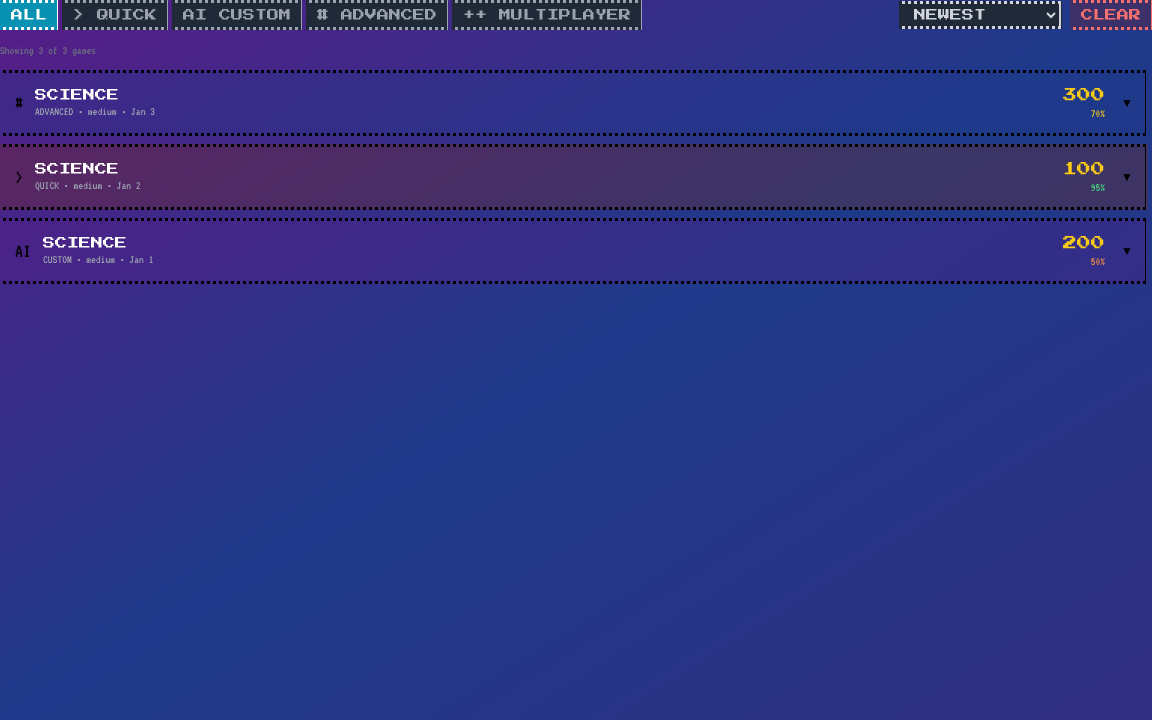
Scenario: GameHistoryList › with entries › cancels clear dialog
The image size is (1152, 720).
What coordinates should you click on to do the following:
click the button with aria-label "clear all"
I would click on:
 (1111, 15)
Its box is x1=1070 y1=0 x2=1151 y2=30.
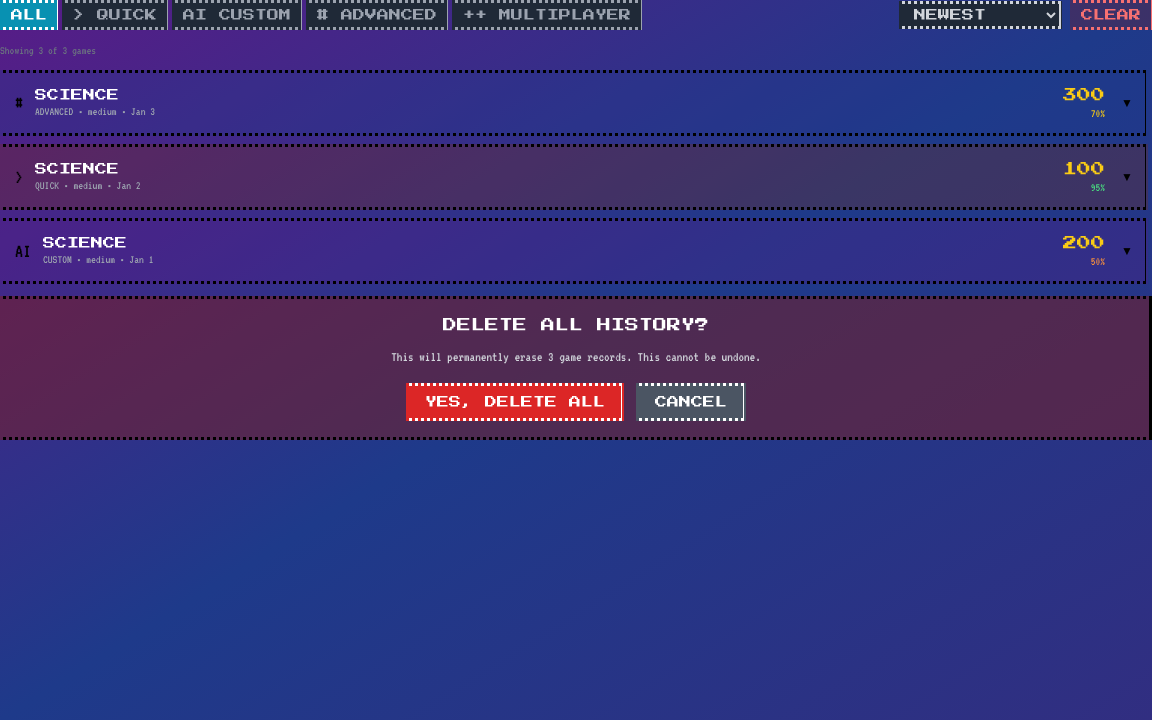
What coordinates should you click on to do the following:
click the button "CANCEL"
I would click on:
 (691, 402)
Its box is x1=636 y1=383 x2=746 y2=421.
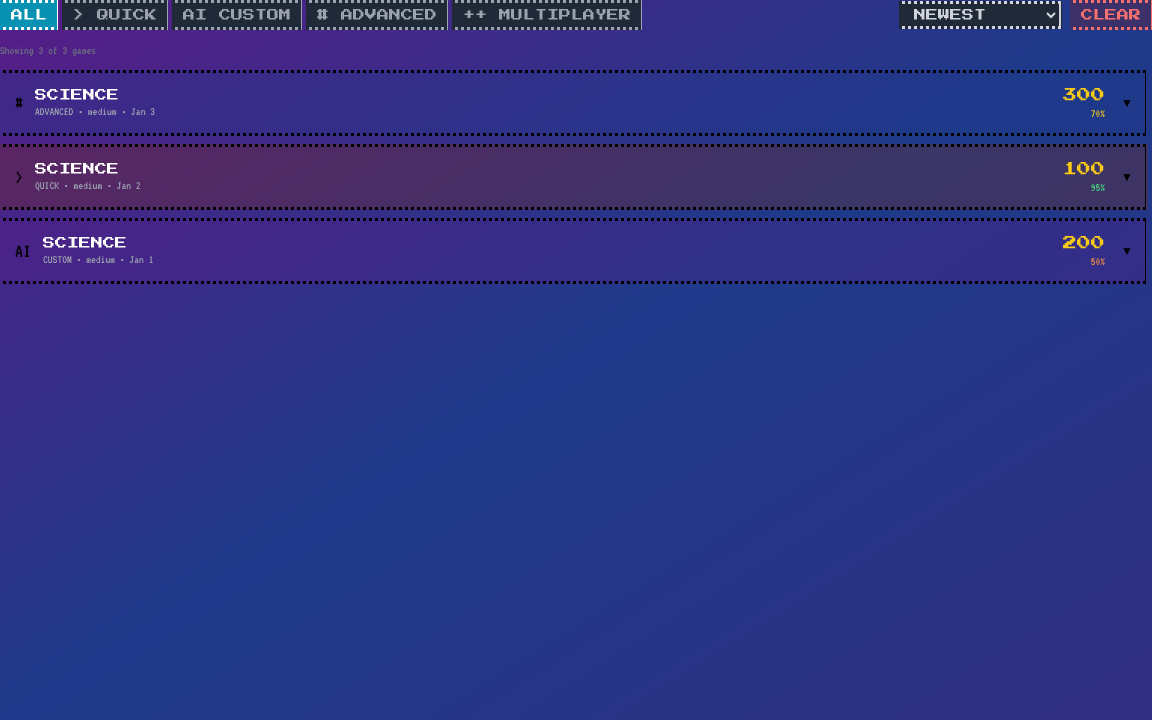
Now the text "DELETE ALL HISTORY" is gone
